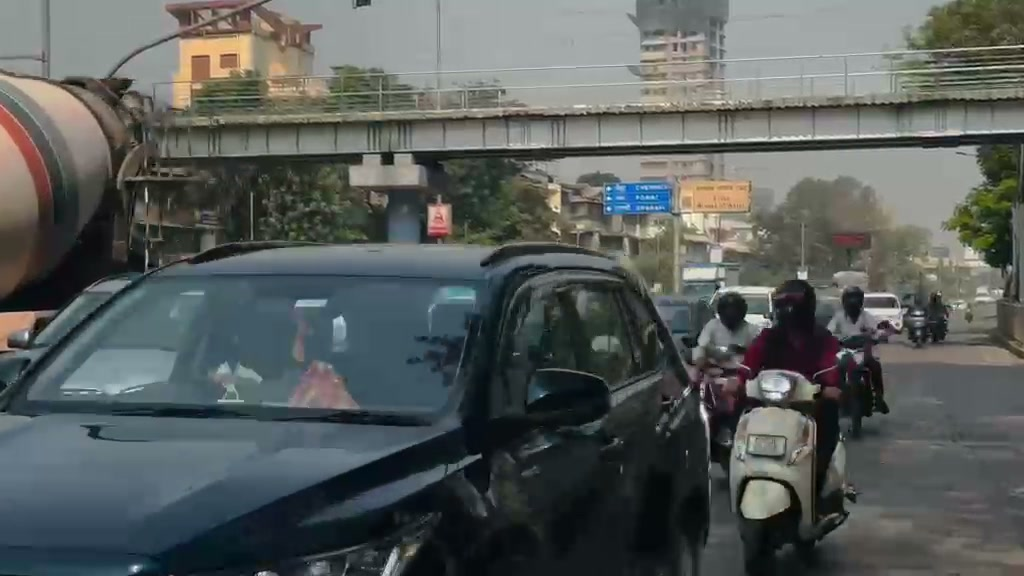car: (653, 295, 711, 354), (862, 293, 904, 333)
motorcycle: (726, 357, 860, 573), (831, 327, 892, 440), (910, 301, 949, 346), (925, 301, 950, 344), (903, 312, 930, 349)
pedestrian: (722, 279, 848, 502), (827, 285, 891, 408), (689, 290, 760, 388), (926, 291, 950, 342)
truck: (2, 239, 707, 570)
